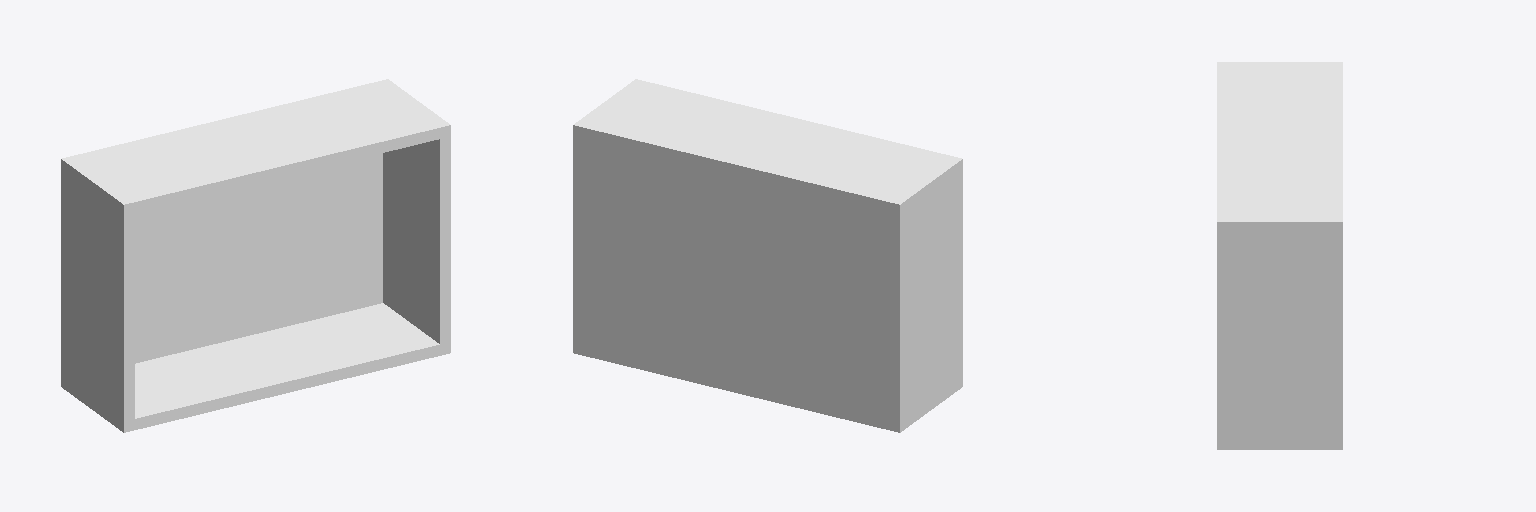
The model's file is DeluxeRoom.obj.
3 renders of one model, left to right at view 1: azimuth 30°, elevation 25°; view 2: azimuth 150°, elevation 25°; view 3: azimuth 270°, elevation 25°, orthographic.
Parts seen in each view (by area): view 1: DeluxeRoom; view 2: DeluxeRoom; view 3: DeluxeRoom.
Boxes of the visible parts, <box> form: DeluxeRoom: <box>61,79,450,432</box>; DeluxeRoom: <box>573,79,962,432</box>; DeluxeRoom: <box>1217,62,1342,449</box>.
Size of the model in its own units: 60 by 40 by 20.